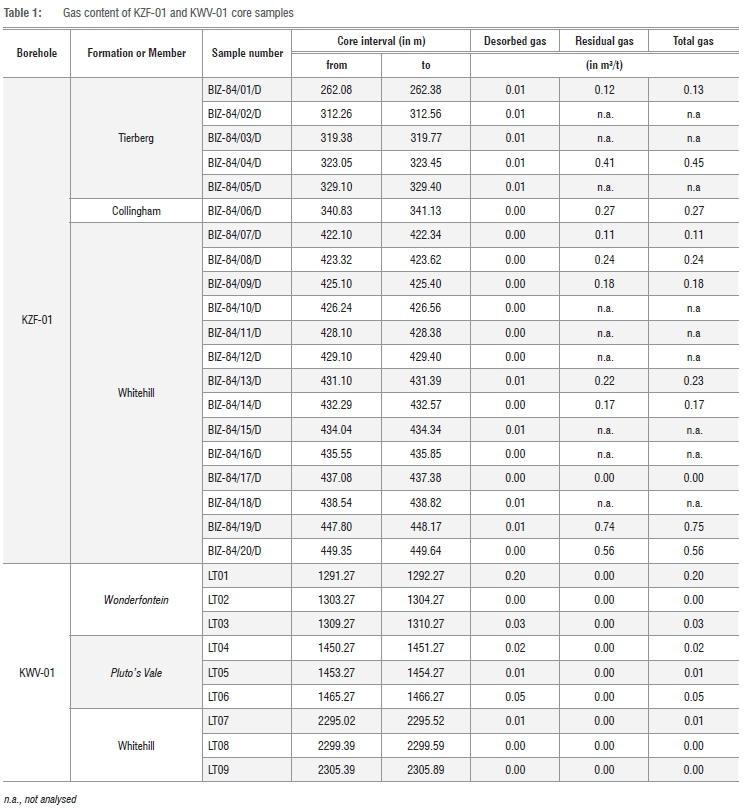fracking table: (5, 25, 742, 785)
